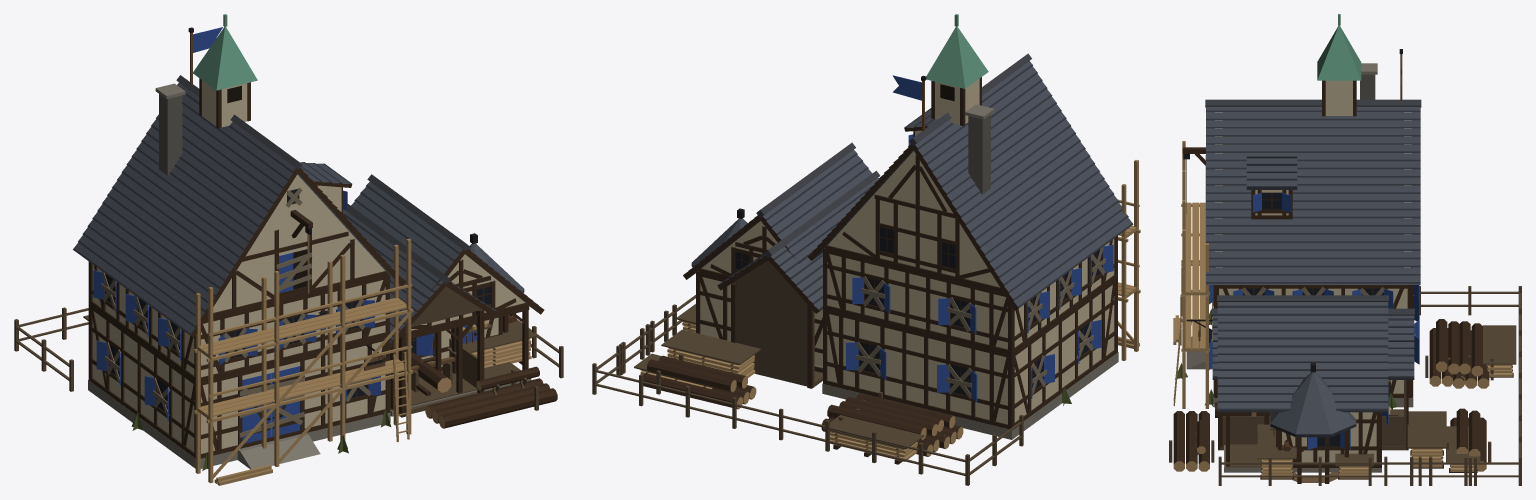
The model's file is tischler.glb.
3 renders of one model, left to right at view 1: azimuth 30°, elevation 25°; view 2: azimuth 150°, elevation 25°; view 3: azimuth 270°, elevation 25°, orthographic. The views are drawn at different scales.
Parts seen in each view (by area): view 1: Haus, Geruest, Stufe2, Stufe3, Stufe1, Leerstand, Fahne; view 2: Haus, Stufe3, Stufe2, Stufe1, Leerstand, Geruest, Fahne; view 3: Haus, Stufe2, Stufe3, Stufe1, Geruest, Leerstand.
Boxes of the visible parts, box(x1,y1,x2,y2) form: Haus: box(73, 75, 405, 469); Geruest: box(194, 238, 413, 485); Stufe2: box(300, 162, 544, 416); Stufe3: box(83, 14, 557, 428); Stufe1: box(14, 307, 563, 395); Leerstand: box(101, 187, 391, 470); Fahne: box(188, 27, 222, 84); Haus: box(807, 53, 1133, 439); Stufe3: box(597, 14, 988, 464); Stufe2: box(596, 108, 944, 456); Stufe1: box(592, 295, 1023, 485); Leerstand: box(855, 246, 1105, 405); Geruest: box(1118, 160, 1140, 360); Fahne: box(892, 75, 926, 131); Haus: box(1182, 63, 1421, 407); Stufe2: box(1217, 153, 1516, 485); Stufe3: box(1169, 14, 1518, 485); Stufe1: box(1194, 286, 1521, 485); Geruest: box(1173, 141, 1209, 408); Leerstand: box(1175, 287, 1415, 409).
Size of the model in its own units: 15.82 by 14.93 by 13.64.
